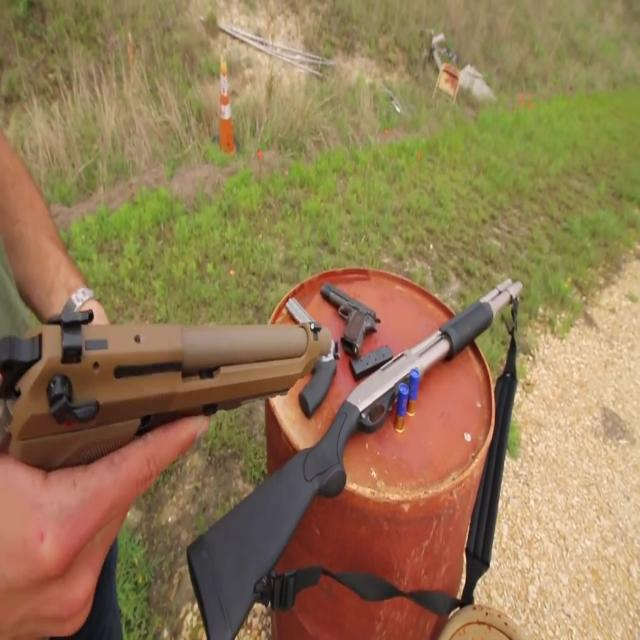Weapon: (4, 241, 536, 640)
